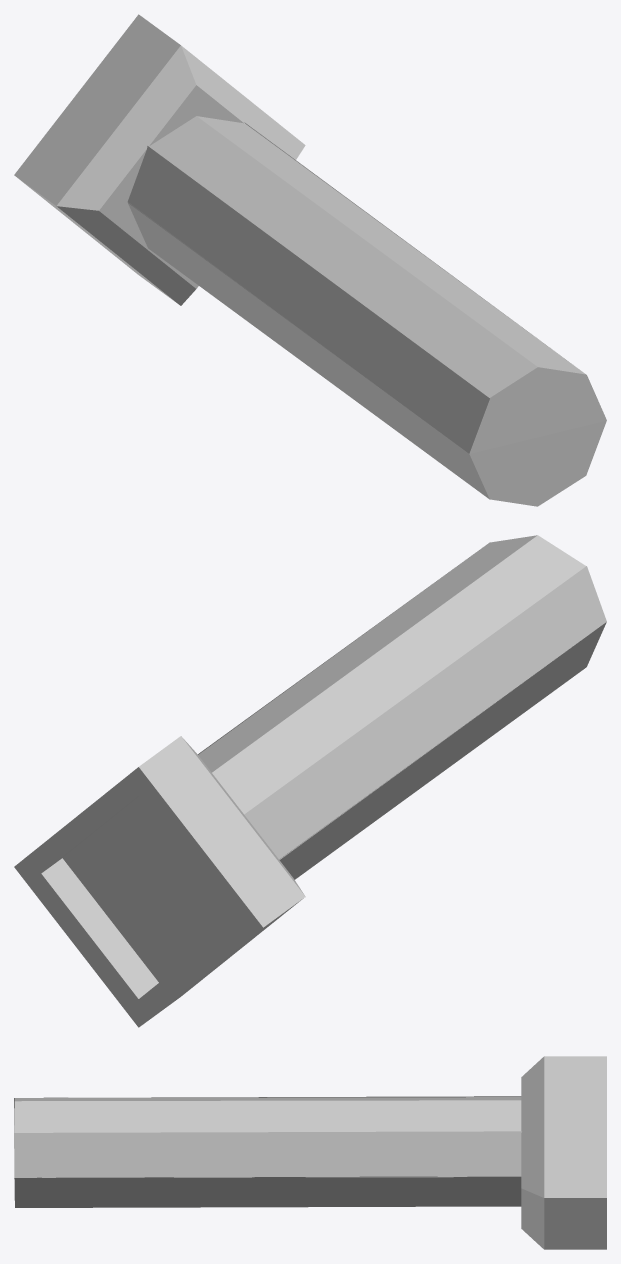
The model's file is FlashLight1.0.fbx.
The picture shows the model from 3 angles, top to bottom: view 1: azimuth 30°, elevation 25°; view 2: azimuth 150°, elevation 25°; view 3: azimuth 270°, elevation 25°; orthographic projection. The views are drawn at different scales.
Parts seen in each view (by area): view 1: Cylinder, Cube; view 2: Cylinder, Cube; view 3: Cylinder, Cube.
Part boxes in pixels (x1,y1,x2,y2): Cylinder: [127, 116, 606, 506]; Cube: [14, 14, 305, 305]; Cylinder: [198, 535, 606, 879]; Cube: [14, 736, 305, 1027]; Cylinder: [14, 1096, 521, 1207]; Cube: [521, 1056, 606, 1249].
Size of the model in its own units: 309 by 309 by 858.
Materials: 2 (2 with a texture image).
